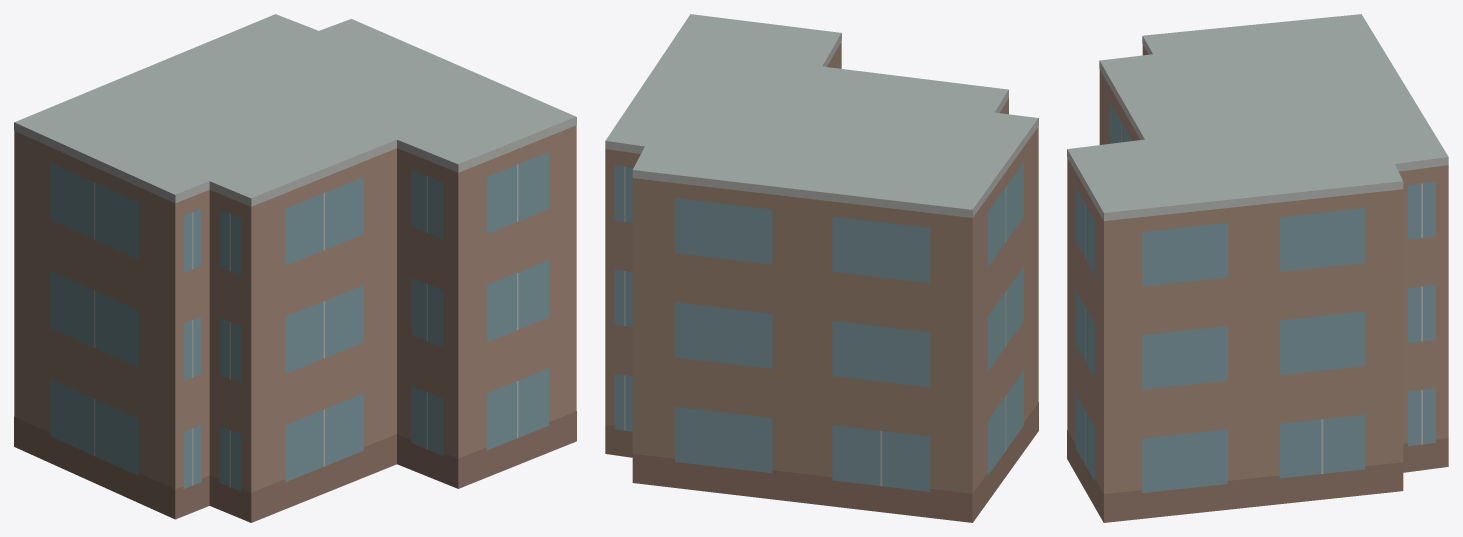
Rendered from survey-upis-32943723.glb.
3 views of the same model, side by side, from view 1: azimuth 30°, elevation 25°; view 2: azimuth 150°, elevation 25°; view 3: azimuth 270°, elevation 25° (orthographic). The views are drawn at different scales.
Parts seen in each view (by area): view 1: survey-upis-32943723.tmp; view 2: survey-upis-32943723.tmp; view 3: survey-upis-32943723.tmp.
Boxes of the visible parts, <box> form: survey-upis-32943723.tmp: <box>14,14,576,522</box>; survey-upis-32943723.tmp: <box>605,14,1038,522</box>; survey-upis-32943723.tmp: <box>1067,14,1448,522</box>.
Size of the model in its own units: 12.97 by 9.4 by 10.5.
